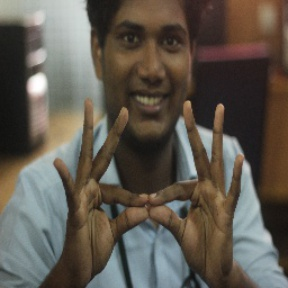B: (85, 161, 215, 249)
